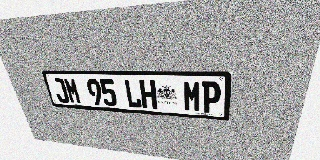5: (99, 79, 118, 107)
9: (85, 79, 104, 106)
H: (139, 80, 158, 109)
J: (51, 78, 70, 103)
L: (123, 79, 142, 108)
M: (183, 81, 201, 112), (63, 78, 82, 104)
P: (202, 81, 221, 113)
